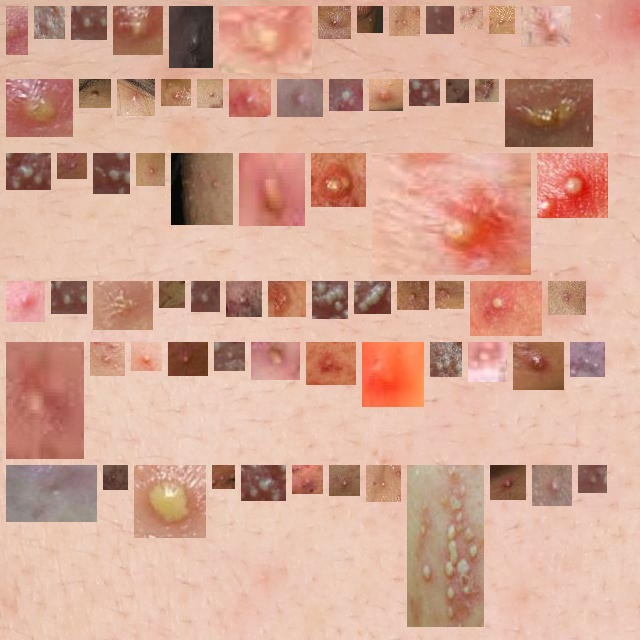pustule: (380, 161, 523, 267), (415, 473, 476, 619), (8, 350, 76, 451), (227, 14, 304, 65), (513, 87, 585, 139), (142, 473, 198, 530), (14, 473, 89, 514), (247, 161, 297, 218), (545, 161, 600, 210), (179, 161, 225, 217), (370, 350, 416, 399), (478, 289, 534, 328), (14, 87, 65, 129), (177, 14, 212, 60), (319, 161, 358, 199), (101, 289, 145, 322), (121, 14, 155, 47), (521, 350, 556, 382), (314, 350, 348, 377), (529, 14, 563, 39), (259, 350, 292, 372), (285, 87, 315, 109), (14, 161, 43, 182), (98, 161, 122, 186), (540, 473, 564, 498), (249, 473, 278, 493), (14, 289, 37, 314), (237, 87, 263, 109), (476, 350, 499, 374), (125, 87, 147, 108), (276, 289, 298, 309), (320, 289, 340, 311), (176, 350, 200, 368), (234, 289, 254, 309), (374, 473, 393, 494), (556, 289, 578, 307), (498, 473, 518, 492), (578, 350, 597, 369), (79, 14, 99, 32), (362, 289, 383, 306), (98, 350, 117, 368), (59, 289, 79, 306), (438, 350, 454, 369), (326, 14, 343, 31), (337, 87, 355, 103), (377, 87, 395, 103), (42, 14, 57, 31), (337, 473, 352, 488), (144, 161, 157, 178), (397, 14, 412, 28), (87, 87, 103, 100), (405, 289, 421, 302), (199, 289, 212, 304), (139, 350, 154, 363), (222, 350, 237, 363), (300, 473, 315, 486), (169, 87, 183, 100), (417, 87, 432, 98), (443, 289, 456, 301), (586, 473, 599, 485), (434, 14, 446, 26), (65, 161, 79, 171), (205, 87, 215, 100), (497, 14, 507, 26), (365, 14, 375, 25), (167, 289, 177, 300), (111, 473, 120, 482), (454, 87, 461, 95), (483, 87, 491, 94), (220, 473, 227, 481), (468, 14, 475, 21)
